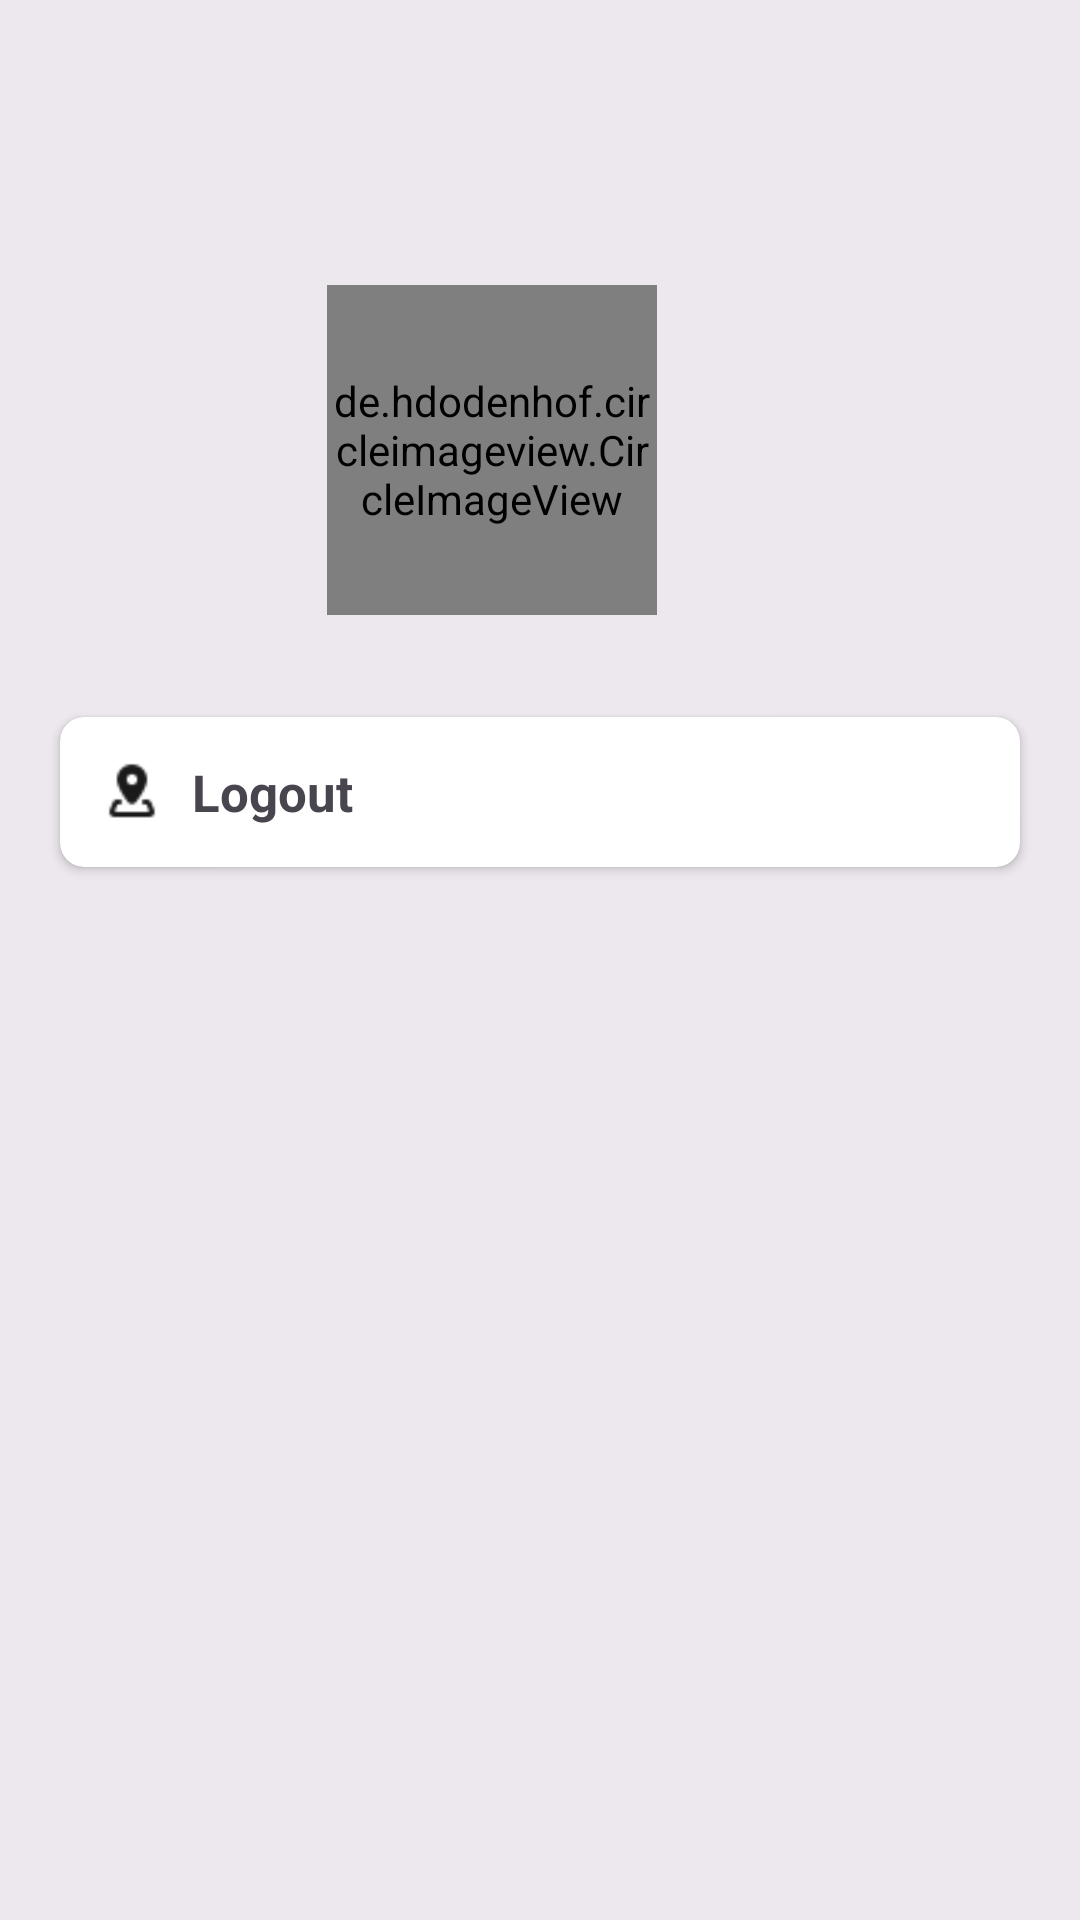

Icon bounding boxes for this 1080px x 1920px phone screenshot, format (x1, y1, x2, y2):
address: (109, 764, 155, 818)
